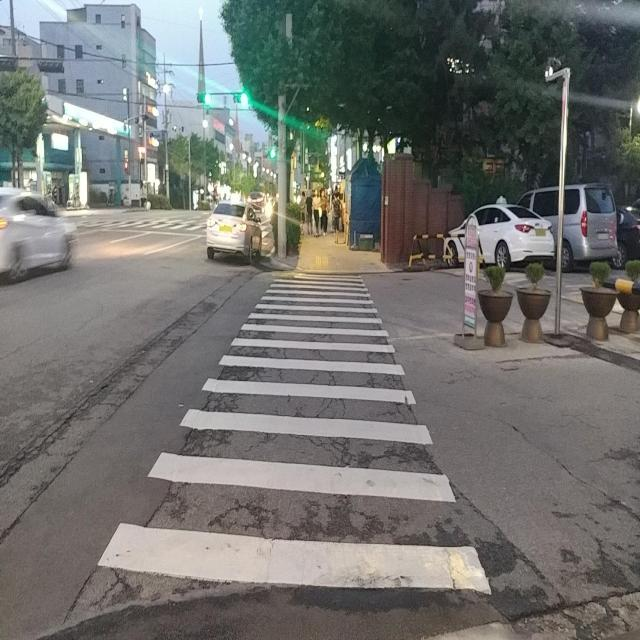횡단보도: (93, 268, 495, 600)
